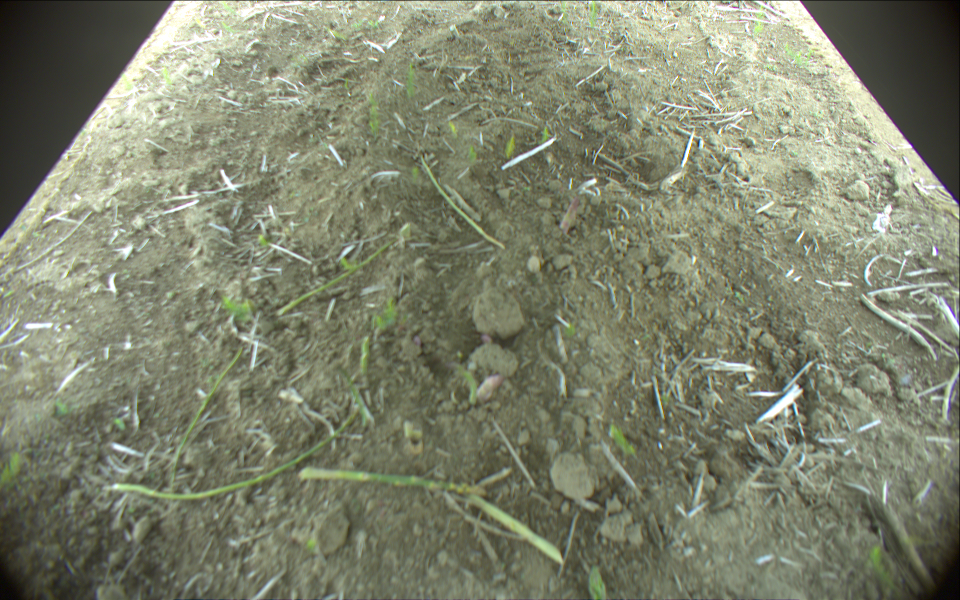aspa: (103, 408, 358, 498), (167, 348, 244, 487), (278, 239, 393, 315), (420, 155, 506, 249), (471, 493, 566, 565), (298, 467, 486, 494)
